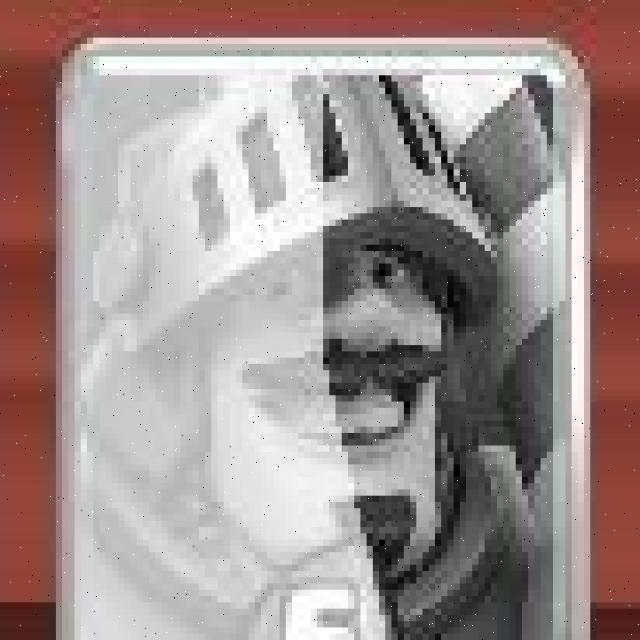Prince: (50, 34, 588, 640)
